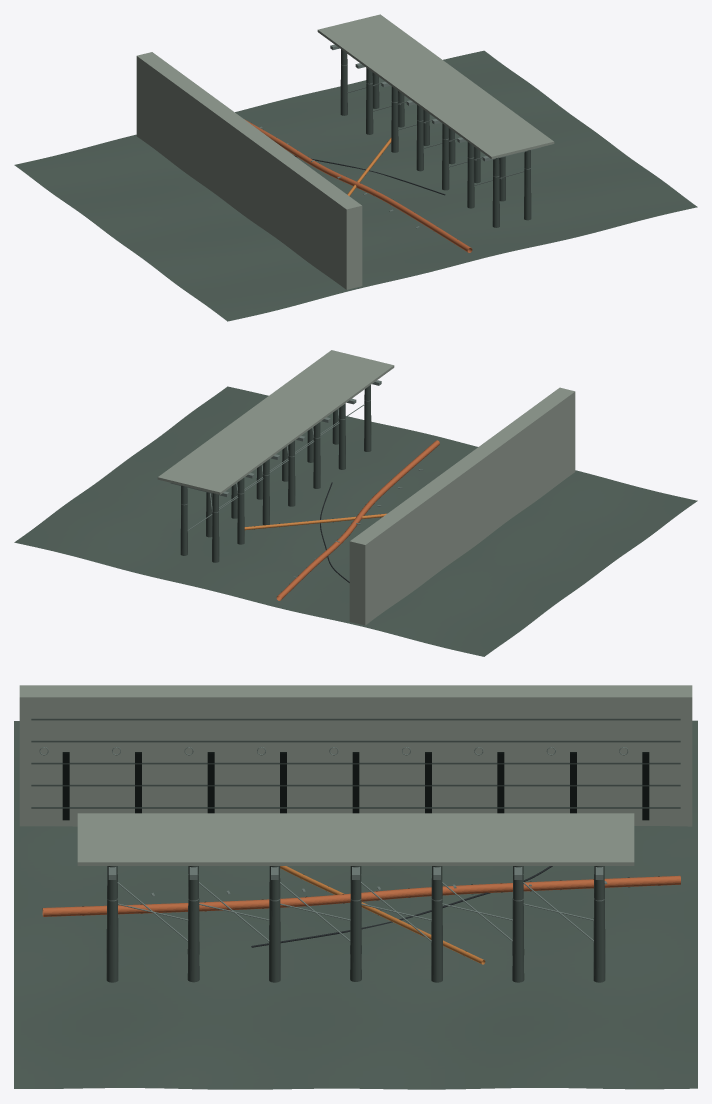
The model's file is harbor_pipeline_inspection.obj.
3 views of the same model, one above another, from view 1: azimuth 30°, elevation 25°; view 2: azimuth 150°, elevation 25°; view 3: azimuth 270°, elevation 25° (orthographic). The views are drawn at different scales.
Size of the model in its own units: 150 by 25.18 by 118.
